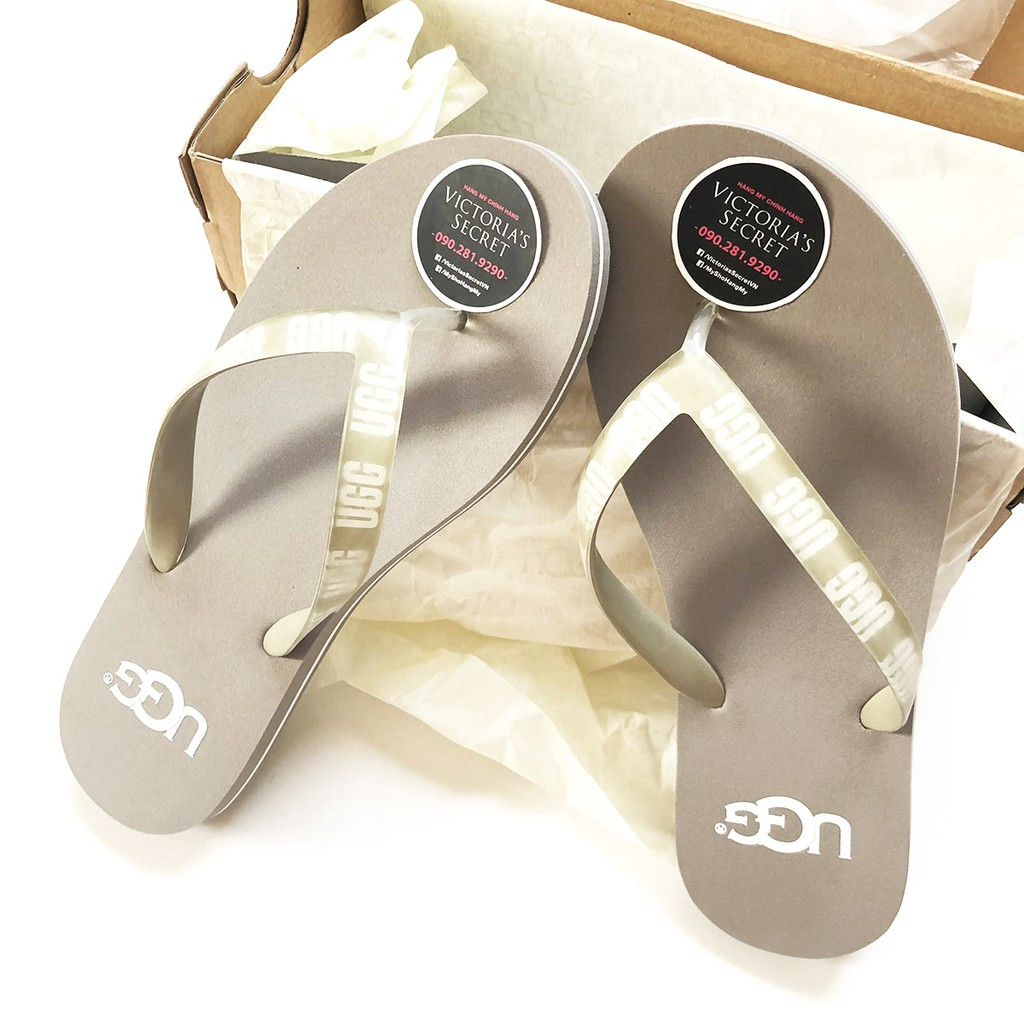flip_flops: (57, 132, 611, 837), (582, 121, 960, 961)
